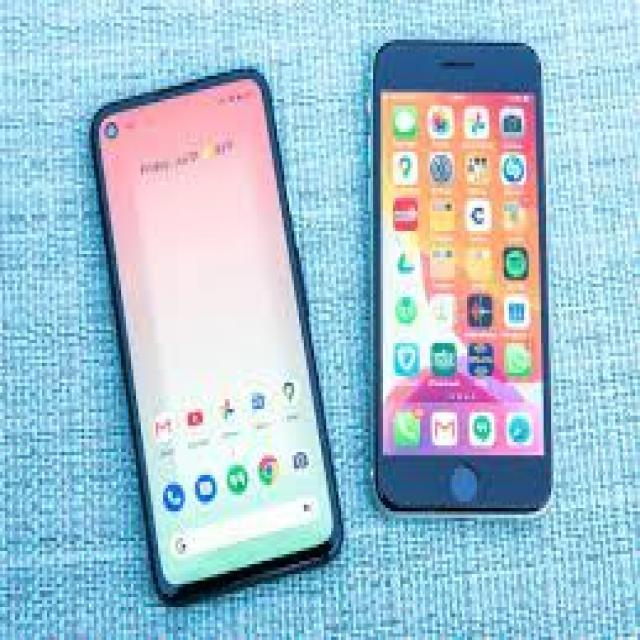phone: (369, 33, 554, 517)
